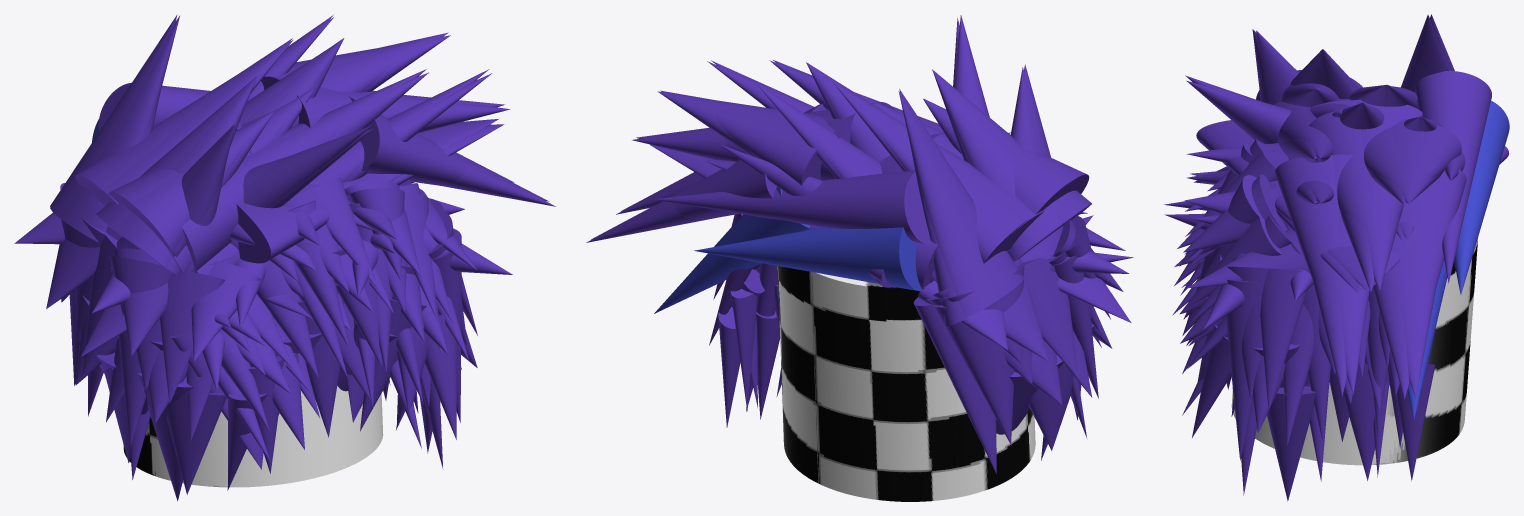
File: HairModel.fbx
3 renders of one model, left to right at view 1: azimuth 30°, elevation 25°; view 2: azimuth 150°, elevation 25°; view 3: azimuth 270°, elevation 25°, orthographic. The views are drawn at different scales.
Visible parts, largest first — view 1: root, node_id188, node_id200, node_id196, node_id176, node_id182, node_id925, node_id70, node_id178, node_id186, node_id174, node_id895 (+78 smaller); view 2: root (×3), node_id791, node_id137, node_id147, node_id153, node_id70, node_id847, node_id844, node_id176, node_id880, node_id174, node_id155 (+35 smaller); view 3: root (×3), node_id196, node_id155, node_id791, node_id198, node_id772, node_id194, node_id153, node_id200, node_id748, node_id751, node_id159 (+45 smaller).
Part boxes in pixels (x1,y1,x2,y2): root: [123, 386, 383, 487]; node_id188: [182, 69, 426, 272]; node_id200: [236, 118, 499, 263]; node_id196: [361, 115, 549, 201]; node_id176: [50, 16, 179, 242]; node_id182: [121, 111, 273, 256]; node_id925: [160, 271, 224, 403]; node_id70: [75, 39, 293, 189]; node_id178: [243, 125, 371, 207]; node_id186: [98, 76, 257, 275]; node_id174: [84, 38, 292, 205]; node_id895: [166, 391, 226, 494]; root (×3): [654, 186, 1035, 501]; node_id791: [653, 170, 930, 244]; node_id137: [898, 91, 1001, 317]; node_id147: [932, 70, 1073, 260]; node_id153: [660, 90, 835, 185]; node_id70: [833, 80, 1030, 263]; node_id847: [933, 305, 1014, 444]; node_id844: [913, 297, 996, 473]; node_id176: [899, 89, 1024, 326]; node_id880: [1021, 257, 1078, 378]; node_id174: [831, 80, 1044, 255]; node_id155: [591, 160, 776, 239]; root (×3): [1231, 100, 1509, 465]; node_id196: [1275, 156, 1369, 394]; node_id155: [1373, 169, 1466, 399]; node_id791: [1415, 71, 1491, 283]; node_id198: [1308, 110, 1400, 290]; node_id772: [1260, 268, 1307, 410]; node_id194: [1381, 221, 1436, 397]; node_id153: [1369, 119, 1461, 204]; node_id200: [1196, 120, 1399, 291]; node_id748: [1225, 280, 1261, 460]; node_id751: [1267, 386, 1316, 501]; node_id159: [1340, 108, 1411, 292].
Size of the model in its own units: 0.1936 by 0.158 by 0.1218.
Materials: 190 (189 with a texture image).
